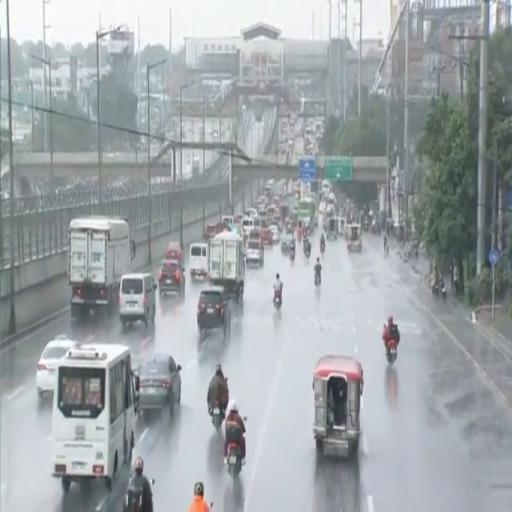bus: (51, 344, 139, 493), (298, 198, 315, 225)
car: (137, 355, 181, 415), (36, 335, 76, 397), (119, 272, 157, 328), (197, 286, 231, 339), (159, 261, 185, 297), (246, 239, 264, 266), (165, 243, 183, 262), (281, 231, 293, 252), (261, 228, 273, 246), (269, 224, 279, 244), (204, 224, 215, 241)
jeepney: (313, 356, 363, 457), (346, 224, 362, 251)
motorcycle: (123, 480, 143, 511), (227, 443, 242, 478), (212, 402, 224, 430), (387, 340, 397, 364), (273, 291, 281, 310), (431, 282, 440, 298), (439, 282, 446, 301), (304, 245, 311, 258), (315, 271, 321, 285), (297, 230, 302, 242), (290, 249, 294, 261), (321, 243, 325, 253)
truck: (68, 216, 135, 318), (208, 231, 245, 301), (298, 198, 316, 227), (192, 156, 200, 177)
